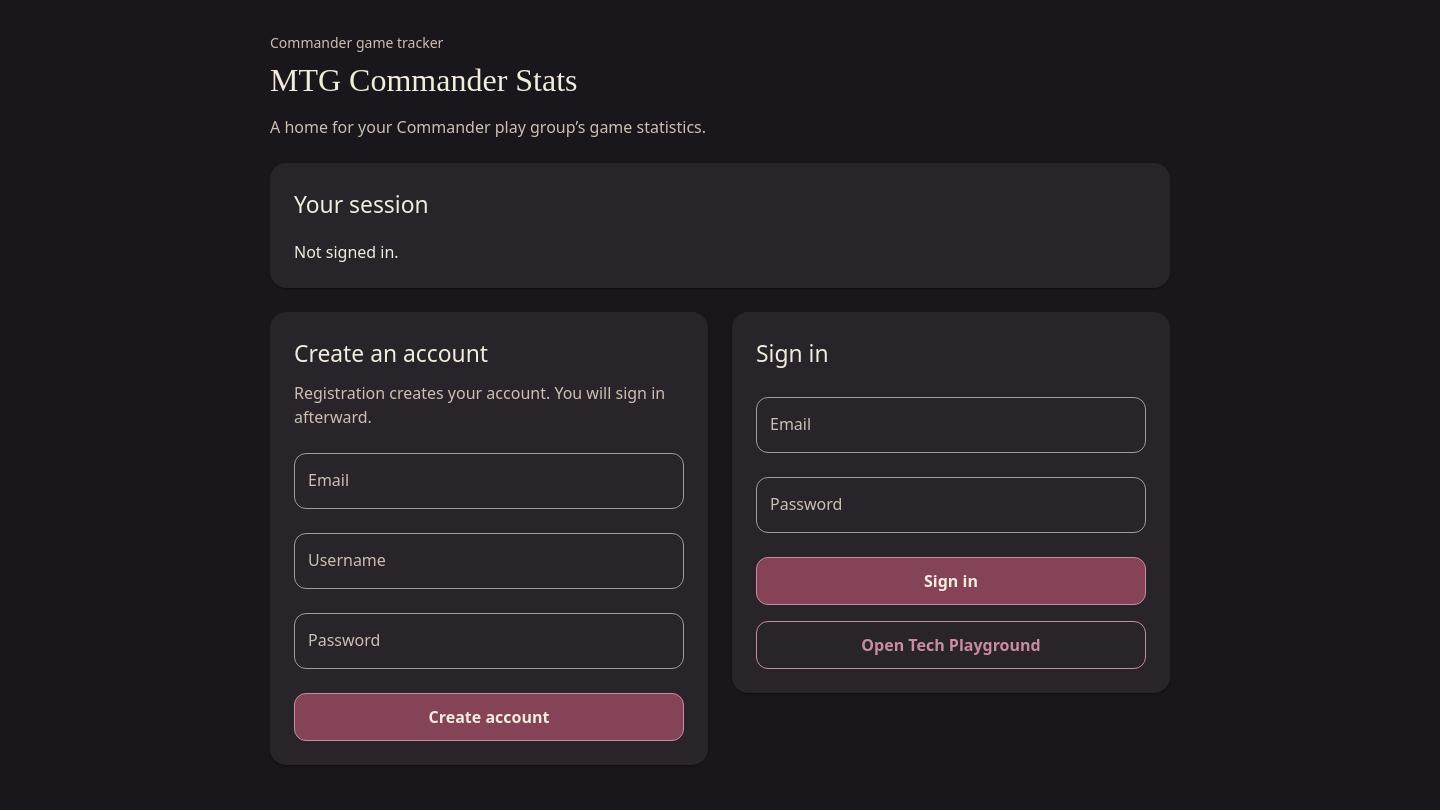
it: signed-out /decks is safe and sign-in opens only the valid destination Decks
This screenshot has width=1440, height=810.
Check: the text "Not signed in." is shown, box [294,241,399,263]
Check: the text "Current deck" is not shown
Type "owner@example.test" into the 1st field labelled "Email". click: (951, 424)
box: [756,396,1146,452]
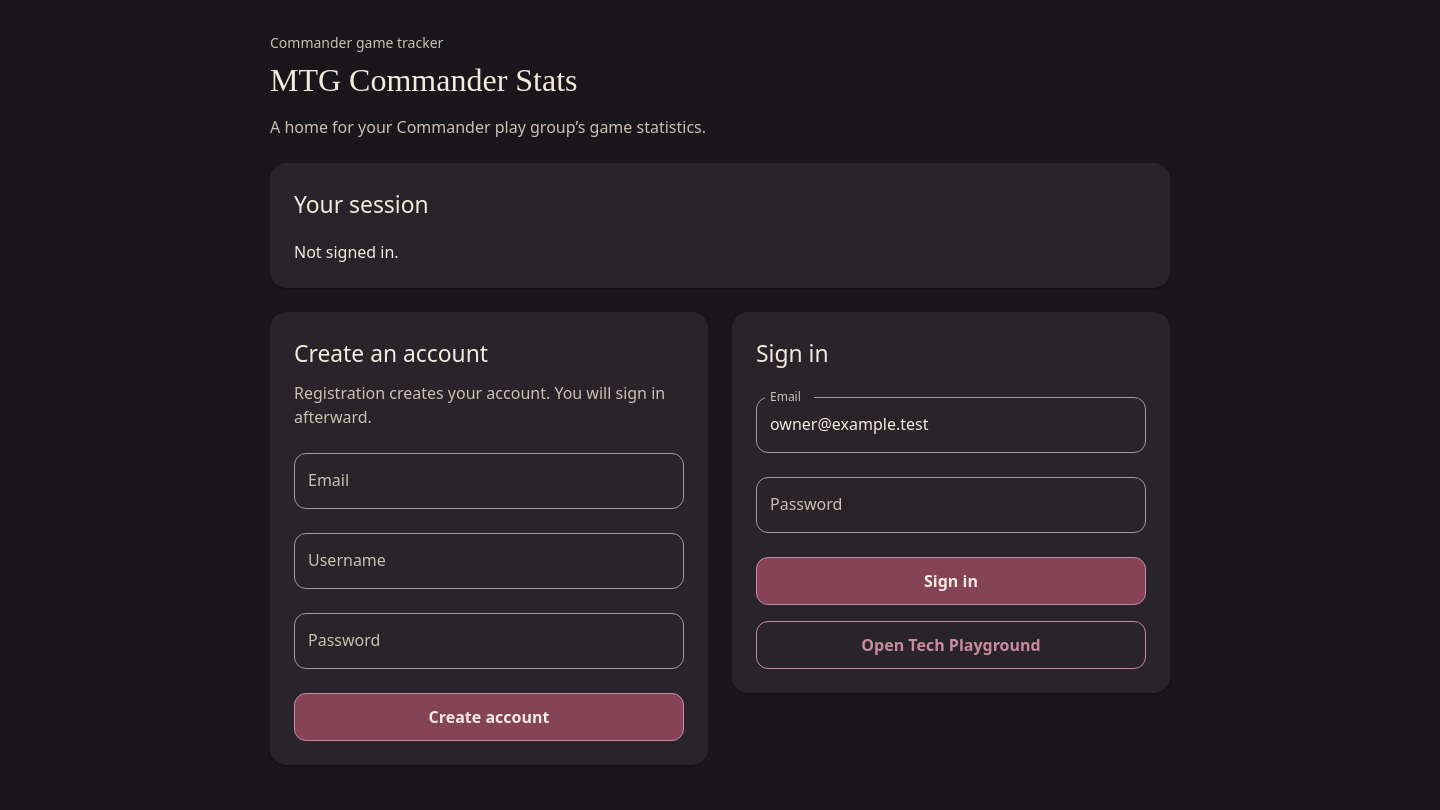
Type "correct horse battery" into the 1st password field labelled "Password". click: (951, 504)
box: [756,476,1146,532]
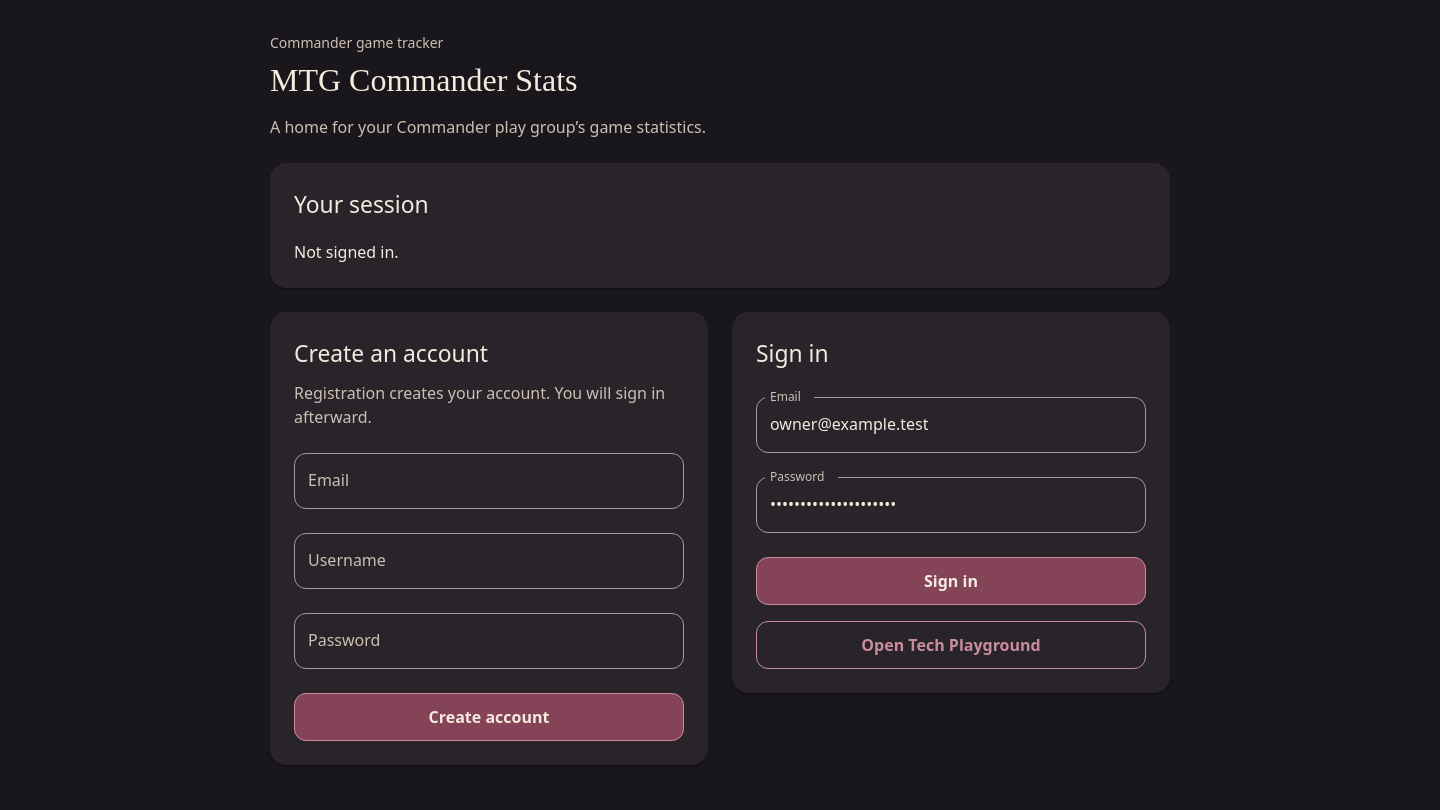
Click the button "Sign in". click: click(951, 580)
box: [756,556,1146,604]
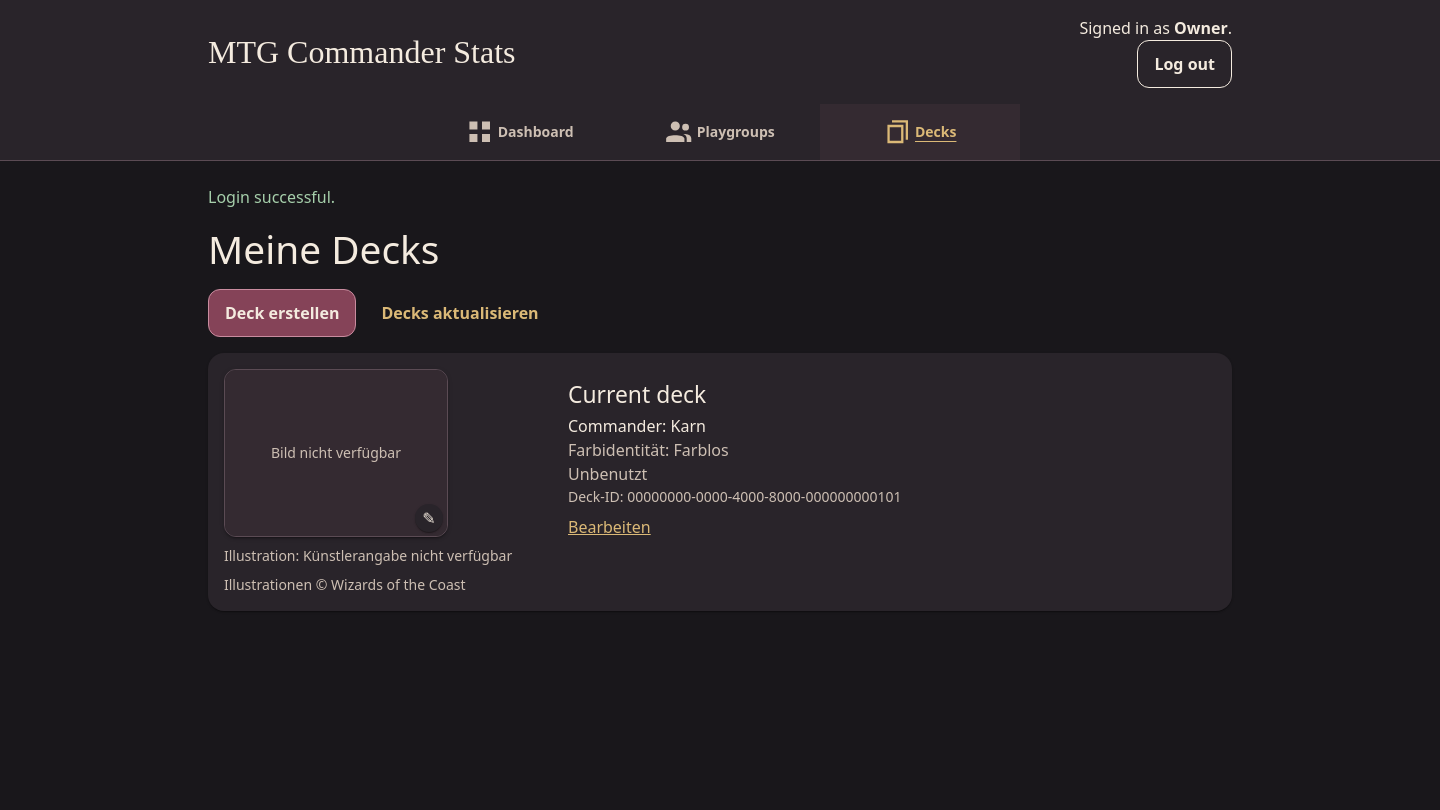
Check: the text "Login successful." is shown, box [208,186,335,208]
Check: the heading "Current deck" is shown, box [568,379,706,410]
